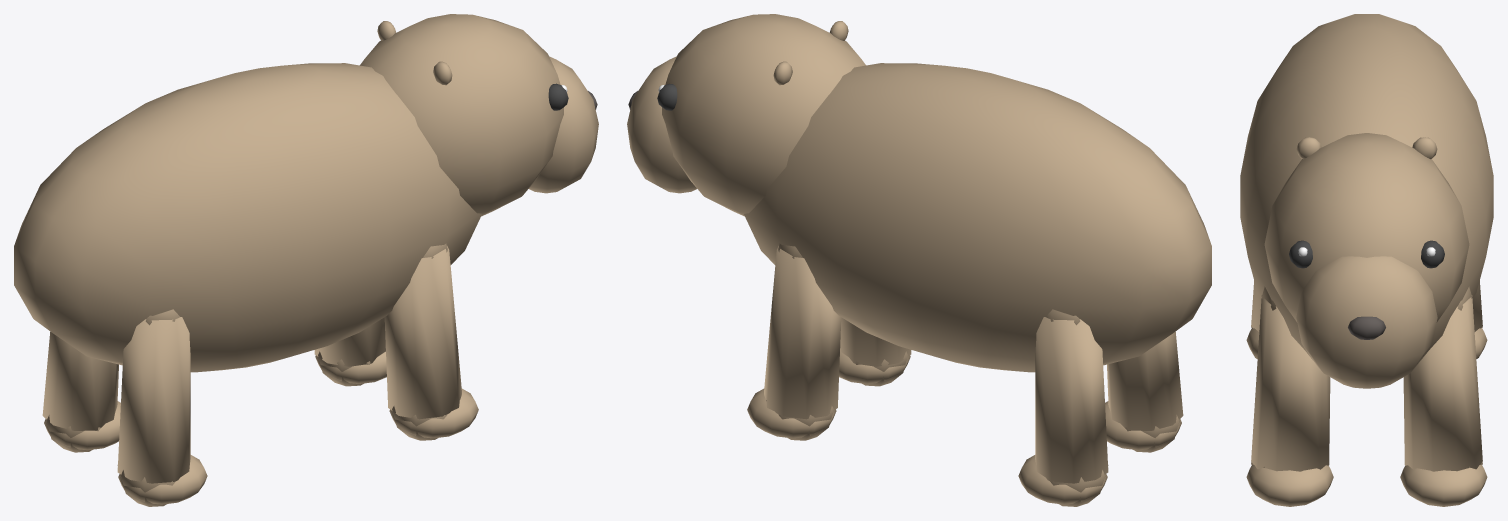
File: capybara.glb
3 renders of one model, left to right at view 1: azimuth 30°, elevation 25°; view 2: azimuth 150°, elevation 25°; view 3: azimuth 270°, elevation 25°, orthographic. The views are drawn at different scales.
Visible parts, largest first — view 1: e, e.015; view 2: e, e.015; view 3: e, e.015.
Part boxes in pixels (x1=…): e: x1=14, y1=63, x2=481, y2=506; e.015: x1=360, y1=14, x2=598, y2=216; e: x1=744, y1=63, x2=1211, y2=506; e.015: x1=627, y1=14, x2=865, y2=216; e: x1=1240, y1=14, x2=1493, y2=506; e.015: x1=1264, y1=133, x2=1469, y2=388.
Bounding box in the file's own units: 1.17 × 0.7286 × 0.4355.
